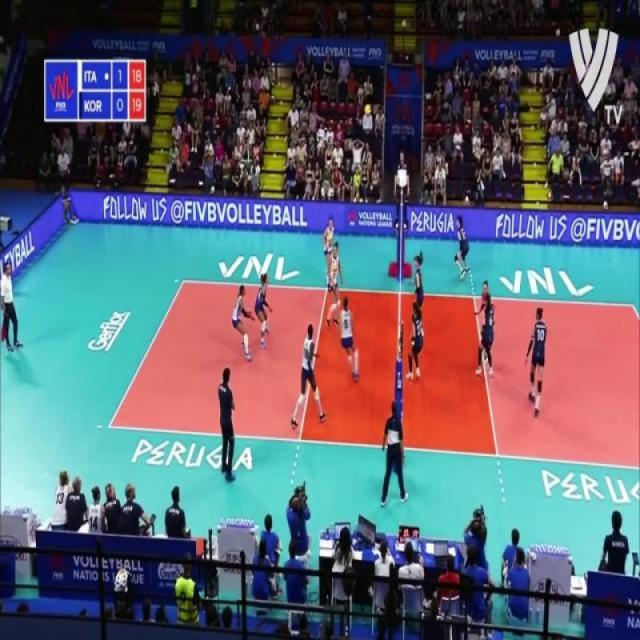volleyball: (364, 104, 372, 115)
